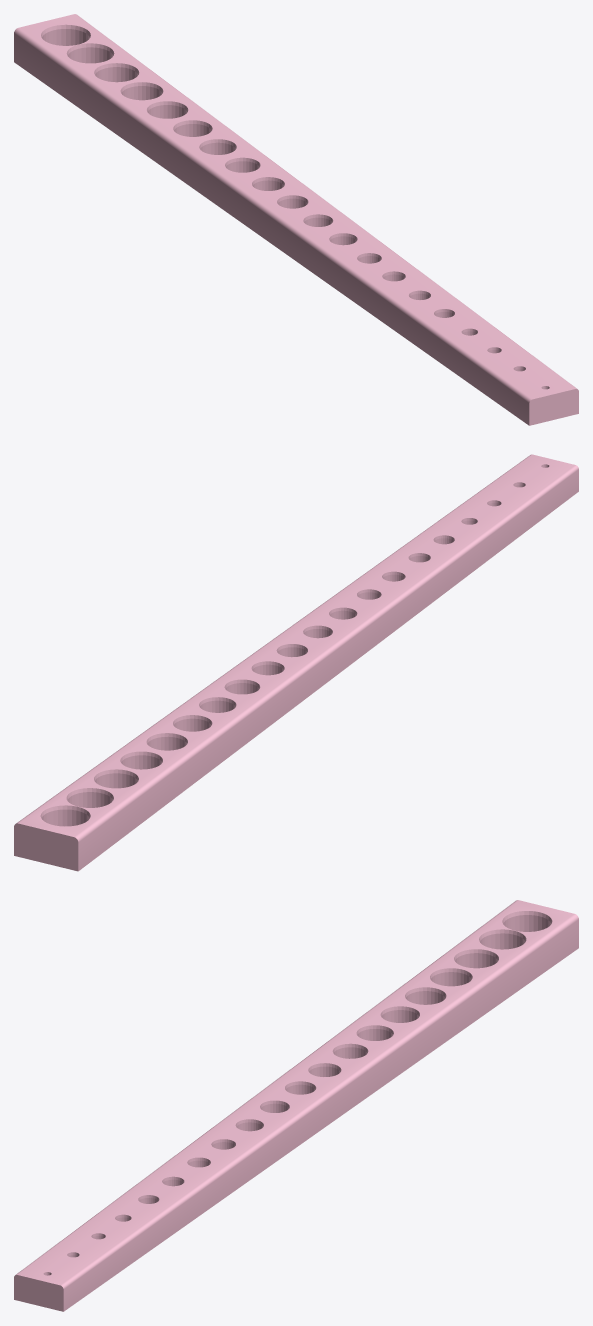
Rendered from PinkPlatform.fbx.
3 renders of one model, top to bottom at view 1: azimuth 30°, elevation 25°; view 2: azimuth 150°, elevation 25°; view 3: azimuth 330°, elevation 25°, orthographic.
Parts seen in each view (by area): view 1: Cube.005; view 2: Cube.005; view 3: Cube.005.
Part boxes in pixels (x1,y1,x2,y2): Cube.005: (14,14,578,425); Cube.005: (14,454,578,871); Cube.005: (14,900,578,1311).
Size of the model in its own units: 368 by 182 by 5035.
Materials: 1 (1 with a texture image).
